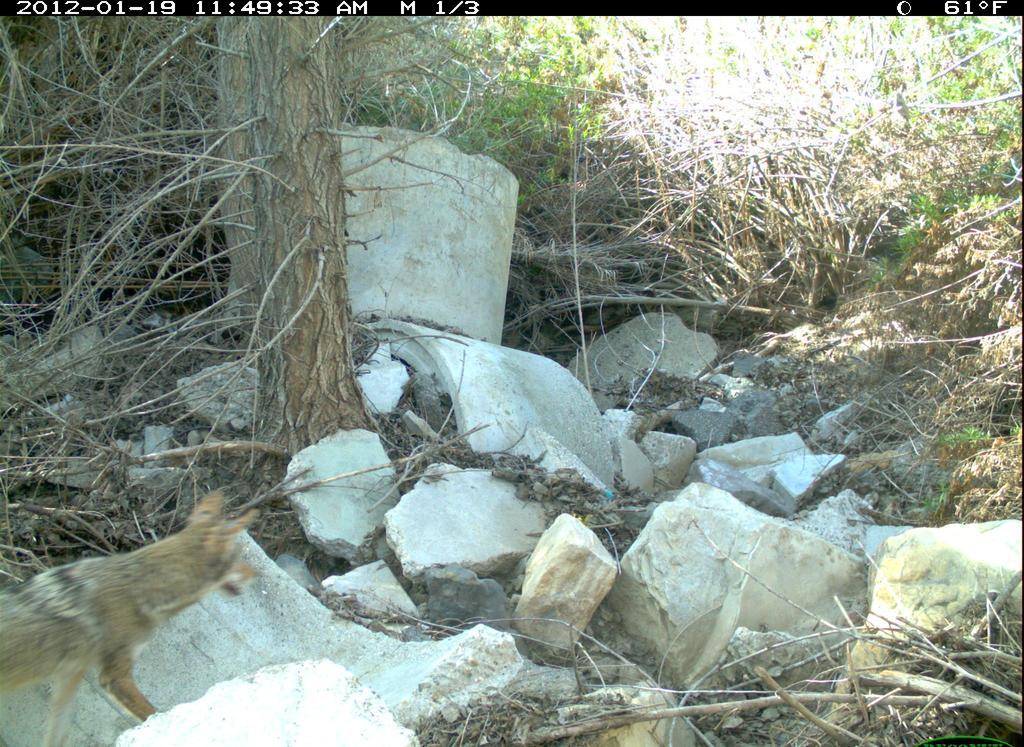coyote: (6, 481, 280, 721)
